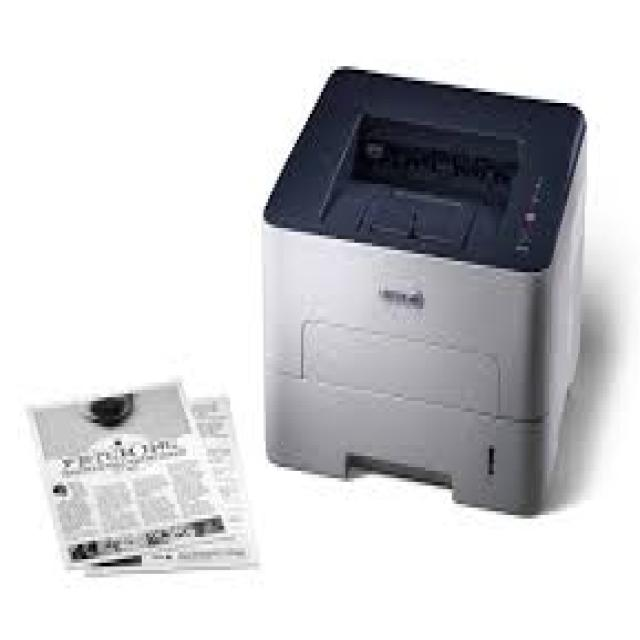printer: (259, 62, 587, 515)
